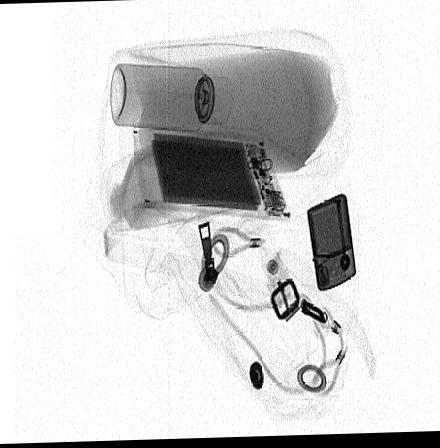Lighter: (305, 195, 356, 294)
Powerbank: (131, 130, 290, 222)
Sprayer: (108, 64, 233, 133)
